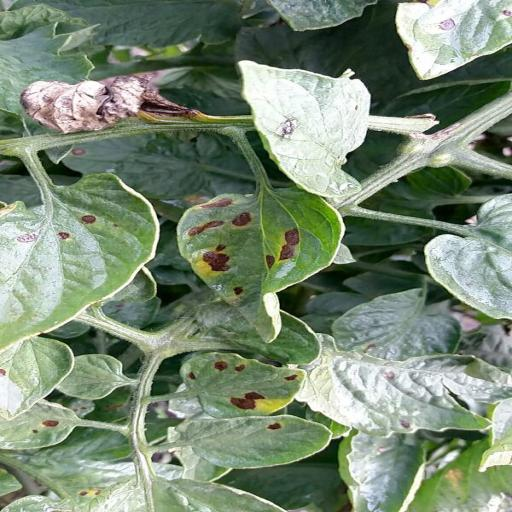disease_tomato: (176, 184, 346, 348), (182, 351, 304, 417)
